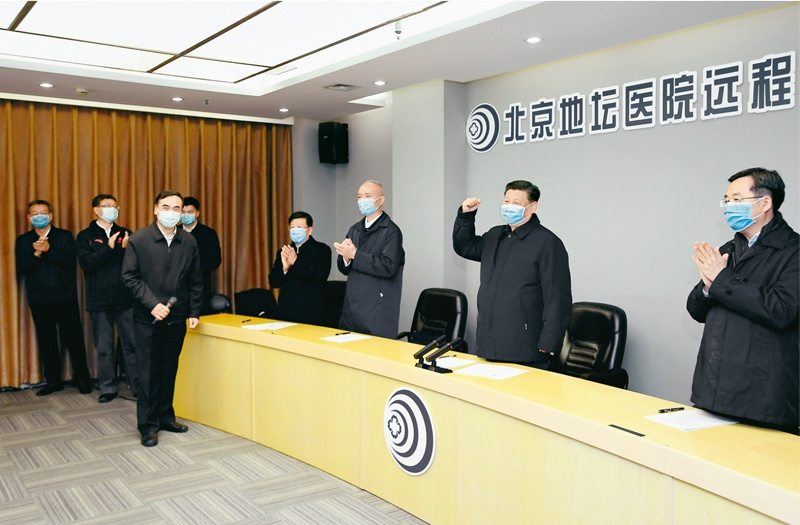correctlyWear: (720, 186, 774, 233), (498, 194, 540, 228), (356, 187, 384, 214), (287, 216, 314, 243), (157, 202, 183, 228), (91, 199, 120, 222), (24, 206, 51, 230), (180, 202, 198, 225)
